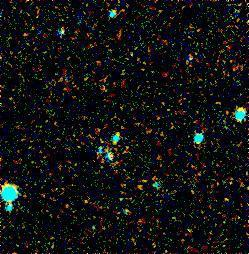star: (104, 116, 134, 146)
